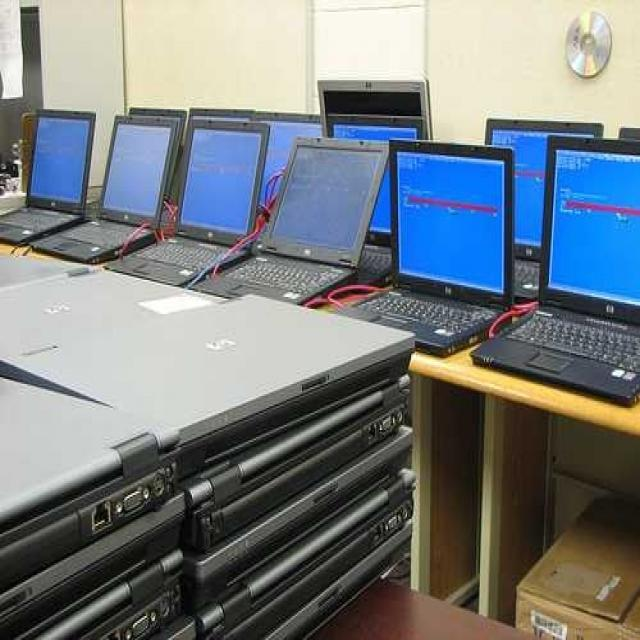laptop: (7, 290, 410, 437), (472, 137, 640, 400), (0, 373, 178, 596), (329, 140, 509, 350), (195, 135, 389, 301), (106, 119, 266, 287), (486, 120, 602, 297), (34, 116, 177, 258), (325, 117, 432, 298), (7, 266, 212, 358), (0, 108, 89, 242)
